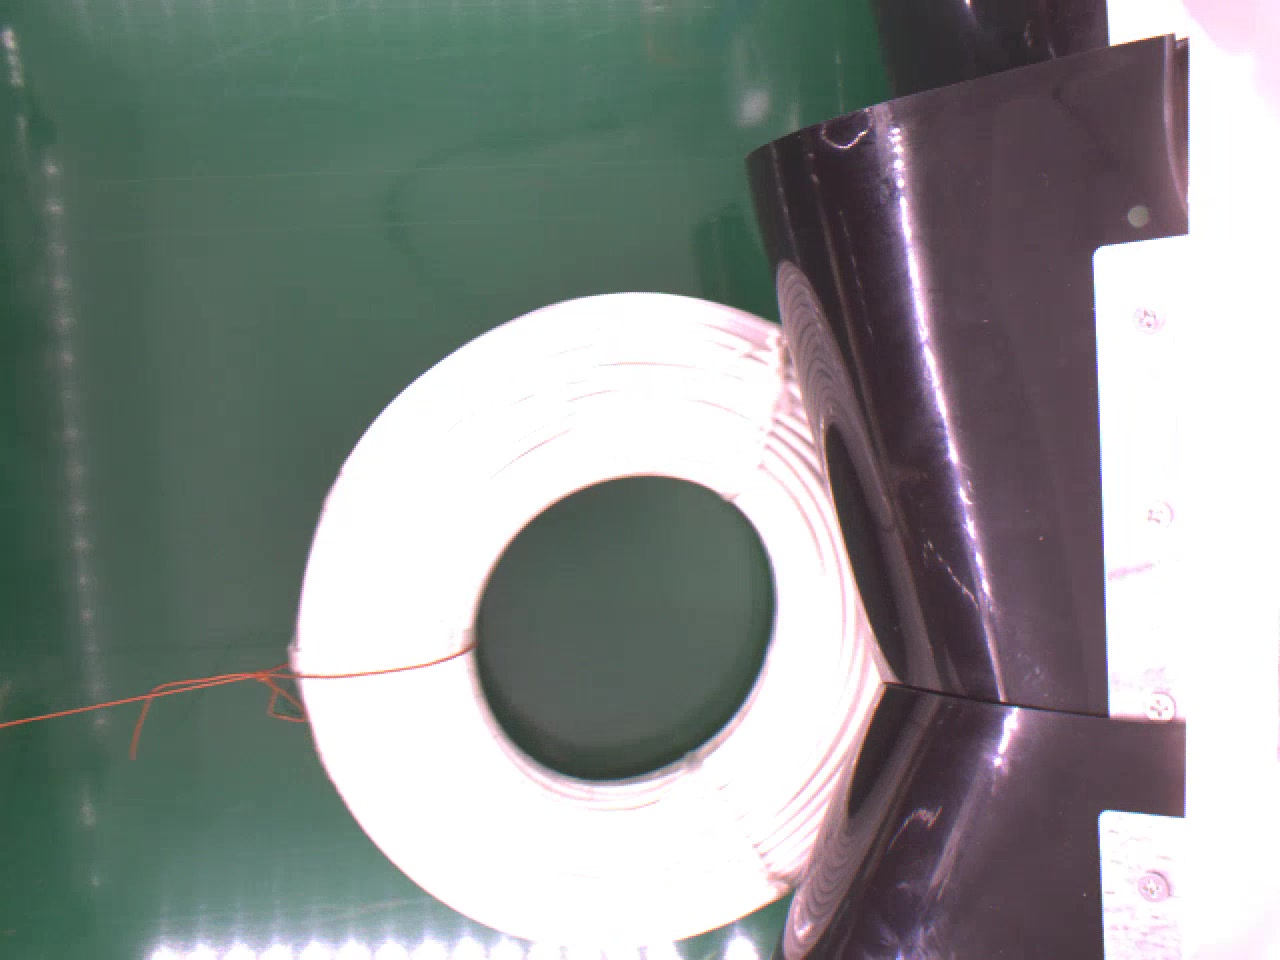white: (287, 288, 884, 945)
